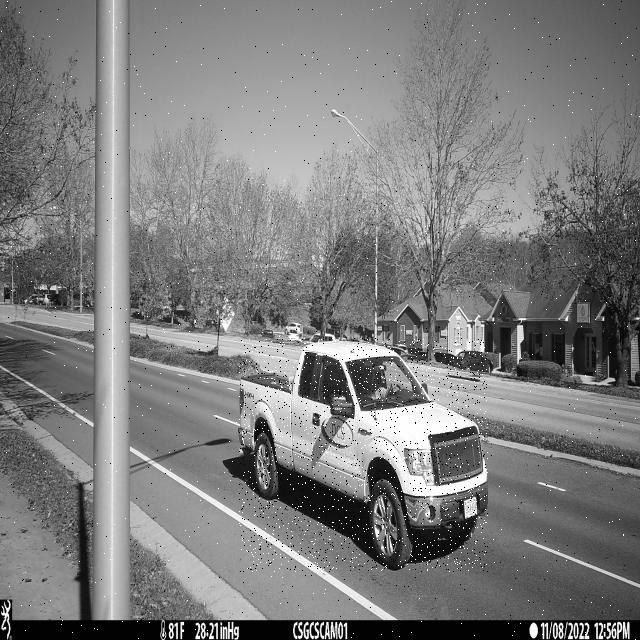Pickup: (239, 338, 488, 572)
